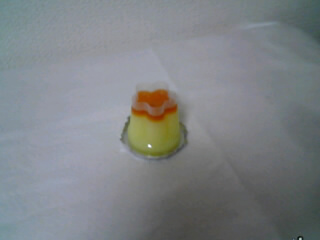001_classes: (118, 76, 189, 165)
